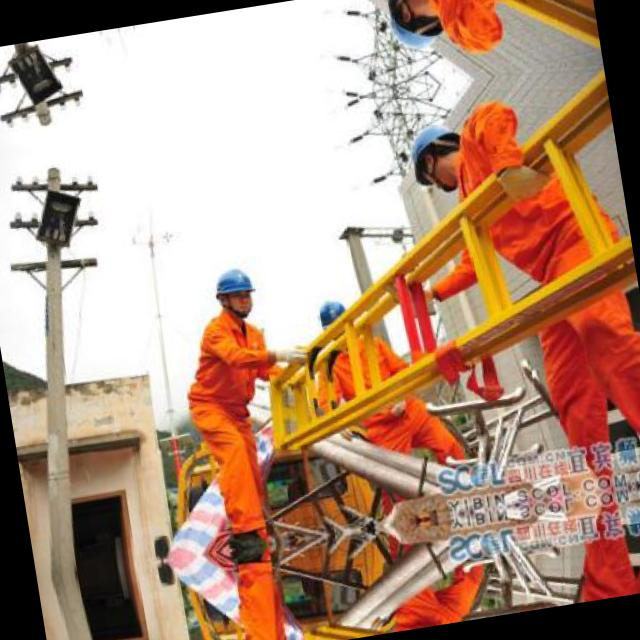helmet: (402, 110, 472, 194), (381, 0, 451, 63), (208, 258, 262, 322), (316, 298, 354, 344)
